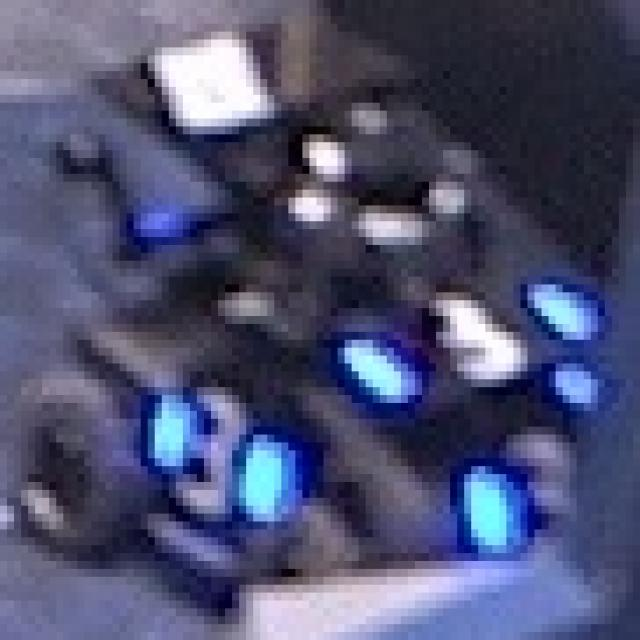B3: (344, 269, 590, 387), (155, 380, 295, 530)
